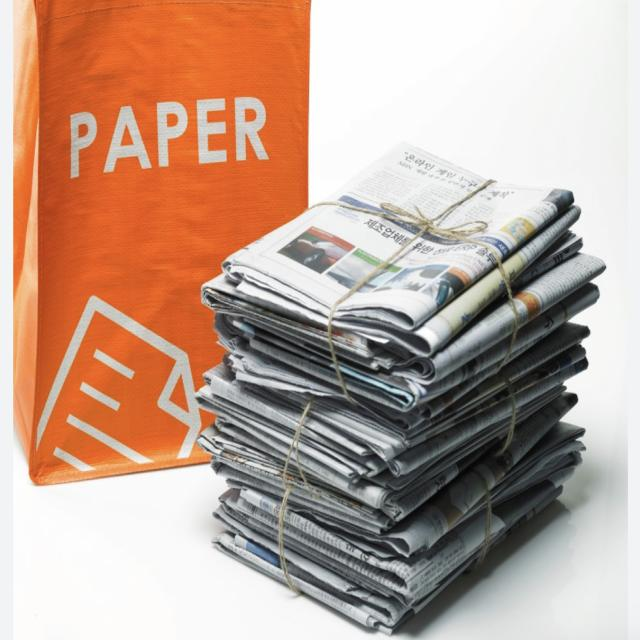biodegradable: (172, 109, 613, 636)
